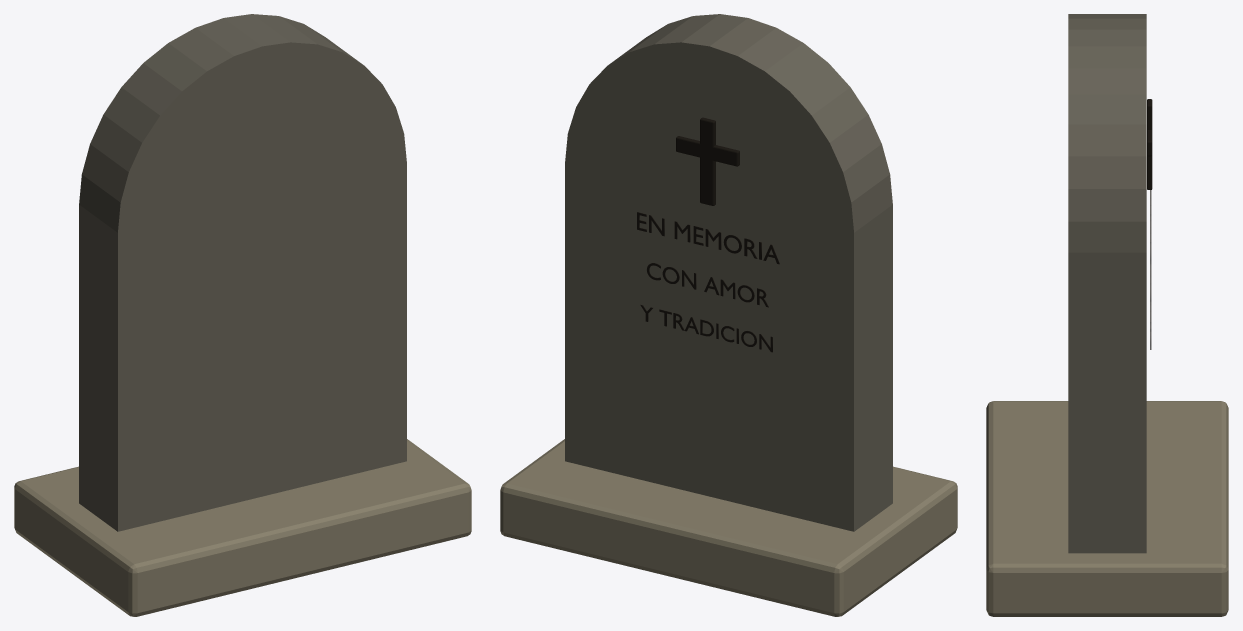
Rendered from lapida_memoria.obj.
3 views of the same model, side by side, from view 1: azimuth 30°, elevation 25°; view 2: azimuth 150°, elevation 25°; view 3: azimuth 270°, elevation 25° (orthographic).
Parts seen in each view (by area): view 1: lapida_memoria; view 2: lapida_memoria; view 3: lapida_memoria.
Part boxes in pixels (left/top/right/bottom): lapida_memoria: left=14, top=14, right=471, bottom=616; lapida_memoria: left=500, top=14, right=957, bottom=616; lapida_memoria: left=986, top=14, right=1228, bottom=616.
Bounding box in the file's own units: 1.02 × 1.43 × 0.62.
